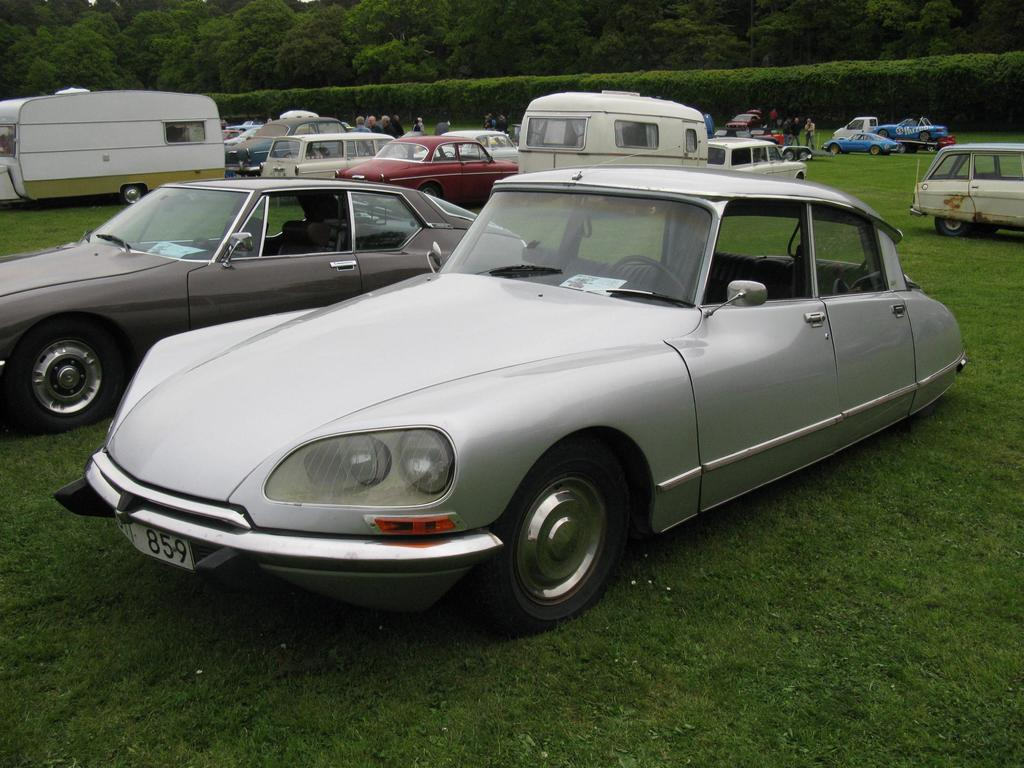Car: (0, 95, 1023, 631)
